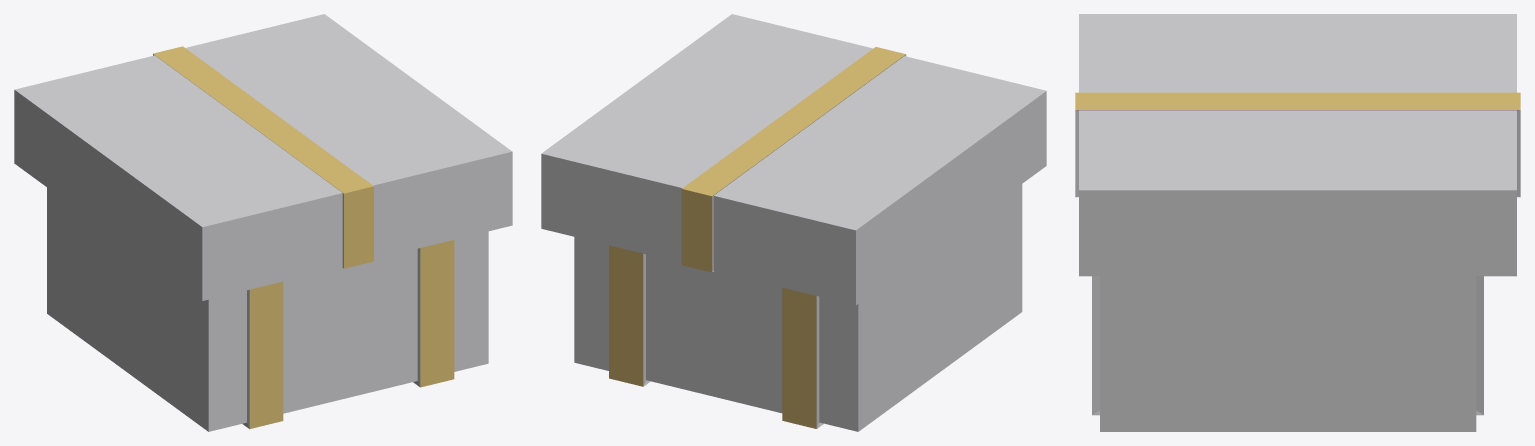
File: Chest.fbx
3 renders of one model, left to right at view 1: azimuth 30°, elevation 25°; view 2: azimuth 150°, elevation 25°; view 3: azimuth 270°, elevation 25°, orthographic. The views are drawn at different scales.
Parts seen in each view (by area): view 1: Penutup, Chestnya; view 2: Penutup, Chestnya; view 3: Penutup, Chestnya.
Part boxes in pixels (x1=…): Penutup: x1=14, y1=14, x2=512, y2=300; Chestnya: x1=47, y1=187, x2=488, y2=431; Penutup: x1=541, y1=14, x2=1046, y2=305; Chestnya: x1=574, y1=184, x2=1022, y2=431; Penutup: x1=1075, y1=14, x2=1520, y2=276; Chestnya: x1=1092, y1=276, x2=1483, y2=431.
Bounding box in the file's own units: 88.2 × 59.69 × 94.21.
